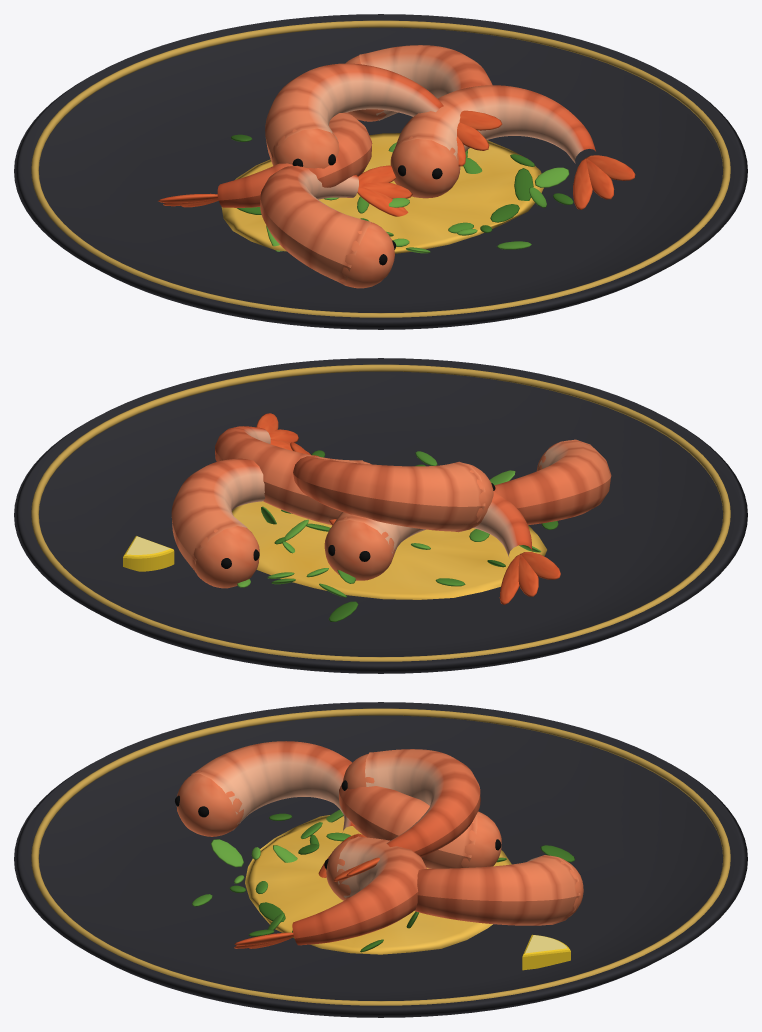
Rendered from camarao.glb.
The picture shows the model from 3 angles, top to bottom: view 1: azimuth 30°, elevation 25°; view 2: azimuth 150°, elevation 25°; view 3: azimuth 270°, elevation 25°; orthographic projection.
Size of the model in its own units: 0.2785 by 0.0514 by 0.2785.
